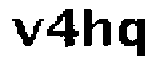4: (44, 6, 80, 49)
h: (83, 5, 113, 51)
q: (117, 16, 152, 60)
v: (9, 17, 44, 48)
